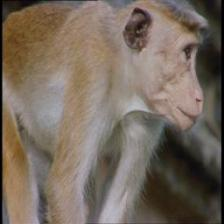monkey: (116, 0, 218, 132)
